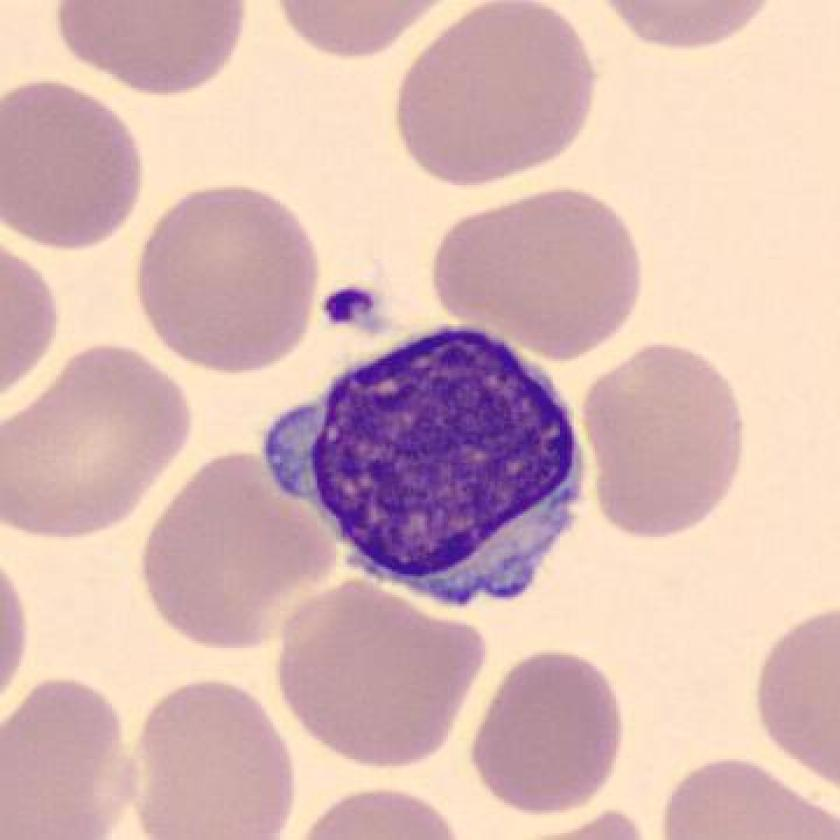lymphocyte: (248, 309, 603, 621)
